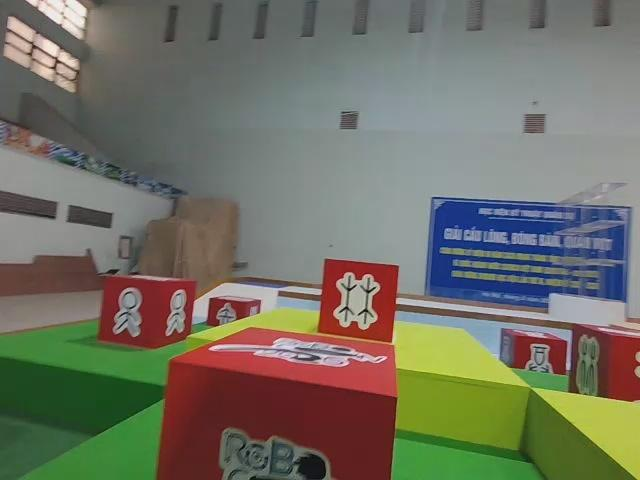R1: (162, 328, 395, 480)
R2 Fake: (569, 323, 640, 401), (205, 294, 261, 331)
R2 Real: (97, 273, 197, 354), (317, 259, 401, 345), (499, 327, 568, 379)
